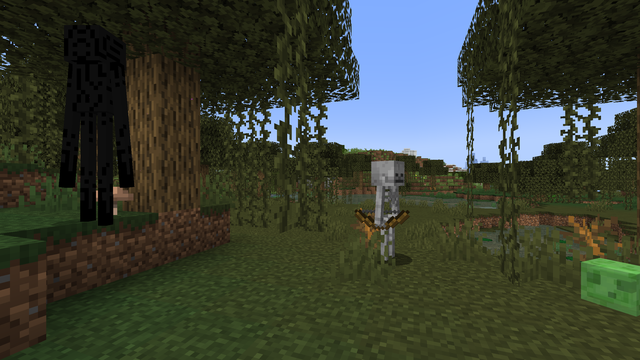endermens: (59, 12, 130, 224)
slimes: (578, 256, 637, 312)
squelettes: (371, 160, 403, 263)
